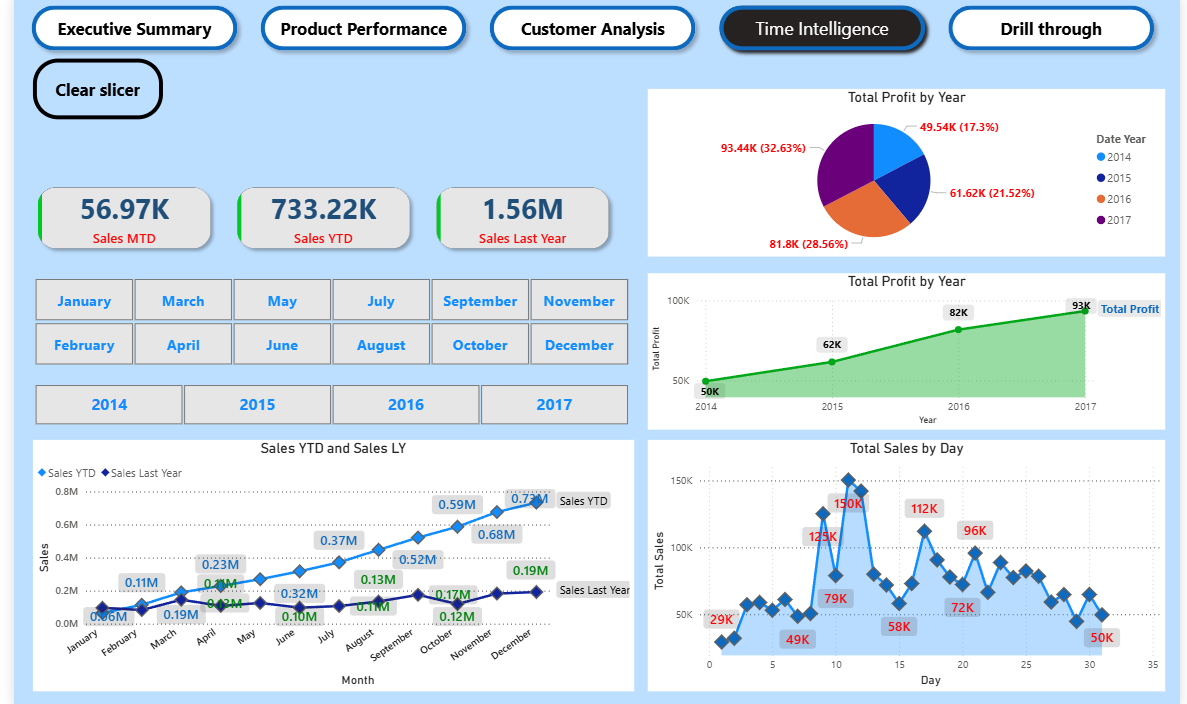

What the dashboard file says about the page in this screenshot:
{"tool":"powerbi","page":{"name":"Time Intelligence","canvas":[1400,850],"ordinal":3},"visuals":[{"type":"pageNavigator","box":[12.1,0,1369.7,72.7],"z":0},{"type":"lineChart","title":"Sales YTD and Sales LY ","fields":{"Category":["Date Table.Date.Variation.Date Hierarchy.Month"],"Y":["Superstore.Sales YTD","Superstore.Sales Last Year"]},"box":[22.7,530.3,721.2,301.5],"z":6000},{"type":"lineChart","fields":{"Y":["Superstore.Total Sales"],"Category":["Date Table.Date.Variation.Date Hierarchy.Day"]},"box":[760.6,530.3,621.2,301.5],"z":7000},{"type":"slicer","fields":{"Values":["Date Table.Date.Variation.Date Hierarchy.Month"]},"box":[0,330.3,760.6,116.7],"z":8000},{"type":"actionButton","box":[22.7,72.7,156.1,72.7],"z":9000},{"type":"cardVisual","fields":{"Data":["Superstore.Sales MTD","Superstore.Sales YTD","Superstore.Sales Last Year"]},"box":[0,198.5,743.9,131.8],"z":10000},{"type":"slicer","fields":{"Values":["Date Table.Date.Variation.Date Hierarchy.Year"]},"box":[0,457.6,760.6,60.6],"z":11000},{"type":"lineChart","fields":{"Category":["Date Table.Date.Variation.Date Hierarchy.Year","Date Table.Date.Variation.Date Hierarchy.Quarter","Date Table.Date.Variation.Date Hierarchy.Month","Date Table.Date.Variation.Date Hierarchy.Day"],"Y":["Superstore.Total Profit"]},"box":[760.6,330.3,621.2,187.9],"z":12000},{"type":"pieChart","fields":{"Category":["Date Table.Date.Variation.Date Hierarchy.Year"],"Y":["Superstore.Total Profit"]},"box":[760.6,109.1,621.2,201.5],"z":13000}]}

Visuals, with their boxes in screenshot pixels (x1, y1, x2, y2), scaled from the page's 1400x850 canvas onto the 1187x704 screenshot:
pageNavigator: <region>10, 0, 1172, 60</region>
"Sales YTD and Sales LY " lineChart: <region>19, 439, 631, 689</region>
lineChart - Superstore.Total Sales x Date Table.Date.Variation.Date Hierarchy.Day: <region>645, 439, 1172, 689</region>
slicer - Date Table.Date.Variation.Date Hierarchy.Month: <region>0, 274, 645, 370</region>
actionButton: <region>19, 60, 152, 120</region>
cardVisual - Superstore.Sales MTD x Superstore.Sales YTD: <region>0, 164, 631, 274</region>
slicer - Date Table.Date.Variation.Date Hierarchy.Year: <region>0, 379, 645, 429</region>
lineChart - Date Table.Date.Variation.Date Hierarchy.Year x Date Table.Date.Variation.Date Hierarchy.Quarter: <region>645, 274, 1172, 429</region>
pieChart - Date Table.Date.Variation.Date Hierarchy.Year x Superstore.Total Profit: <region>645, 90, 1172, 257</region>
